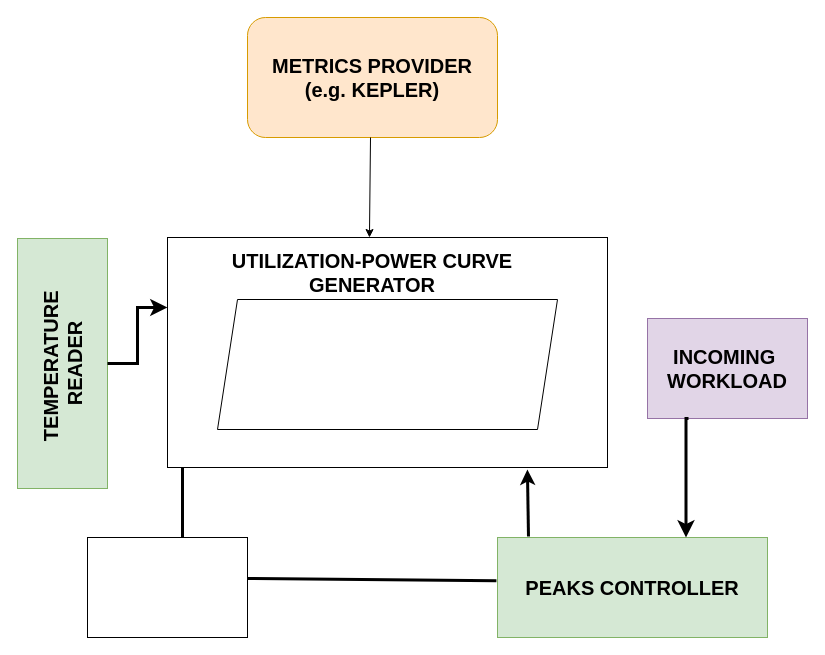
This 825x655 diagram has some shape labels left out. The box of each missing label's shape, as (x1, y1, x2, y2) in pixels:
BEST FIT NODE: (86, 536, 248, 638)
f( characteristic of the workload, node temperature, node utilization ): (216, 298, 558, 430)
